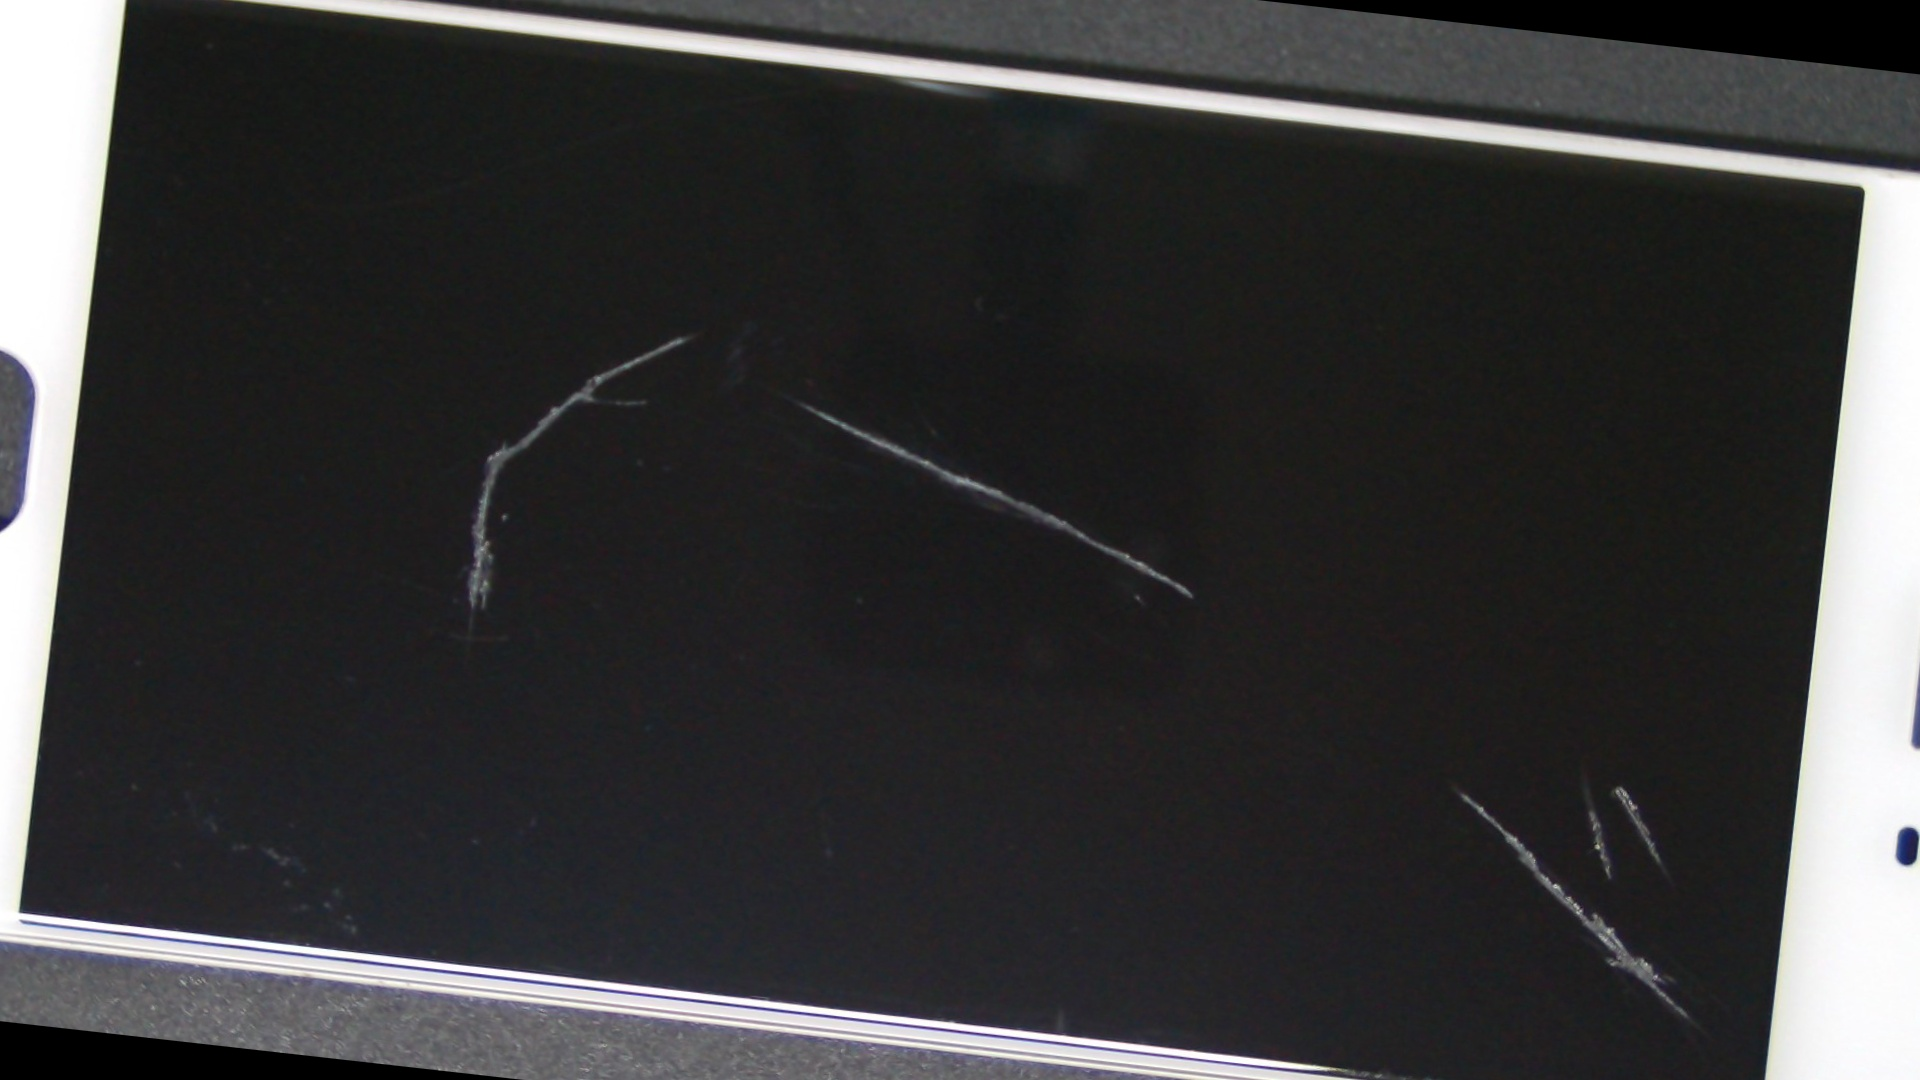oil: (617, 322, 1920, 1080), (680, 322, 1920, 1080), (698, 318, 1920, 1080), (323, 127, 1284, 678), (268, 94, 1089, 578)
